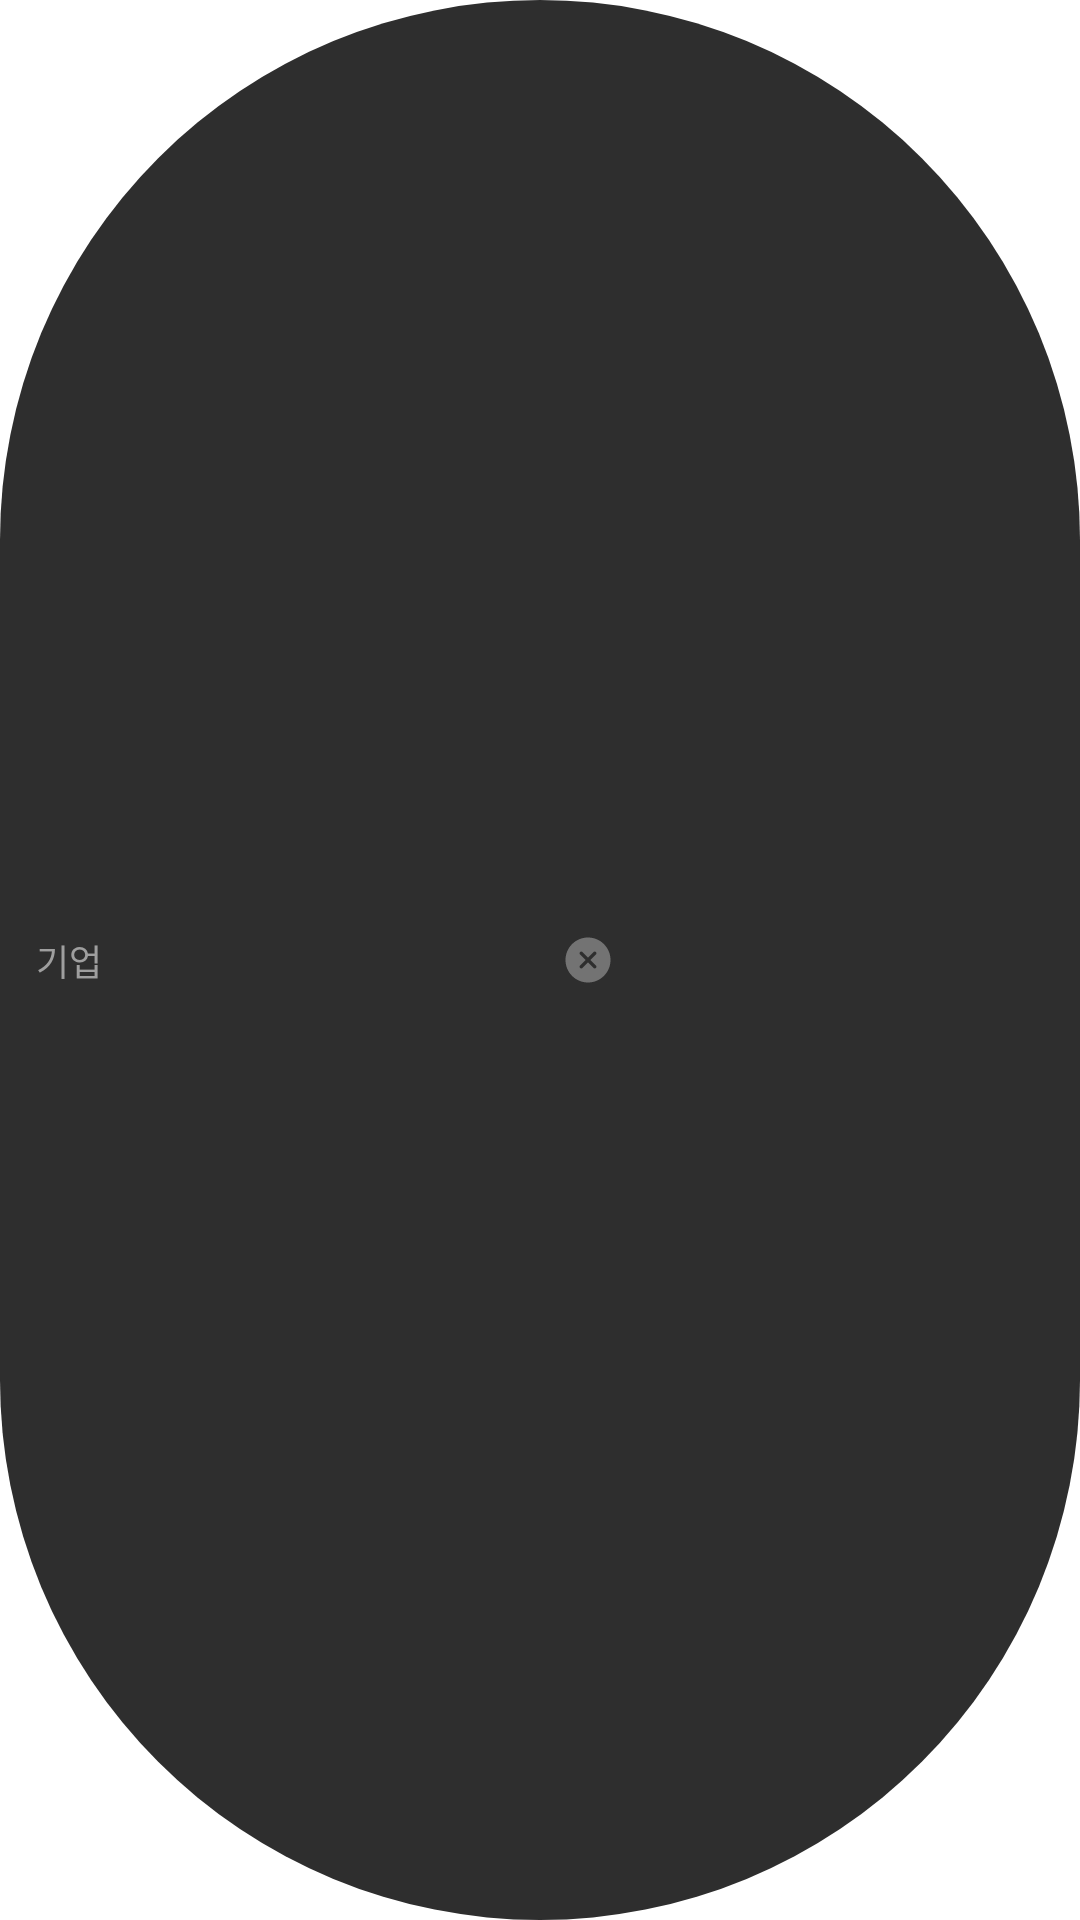

Named icons in this screenshot (1080px x 1920px) and their centers, point (x, y):
delete: point (588, 960)
